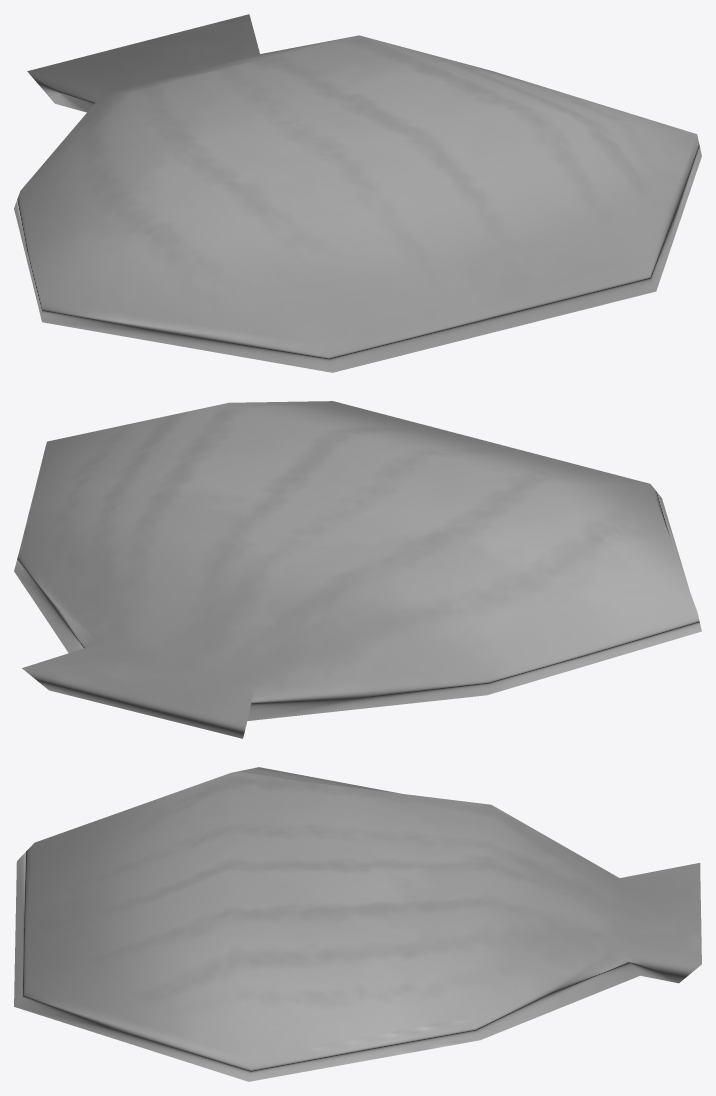
Rendered from Asset_coquillage_01.fbx.
3 renders of one model, top to bottom at view 1: azimuth 30°, elevation 25°; view 2: azimuth 150°, elevation 25°; view 3: azimuth 270°, elevation 25°, orthographic. The views are drawn at different scales.
Visible parts, largest first — view 1: PolySurface_Sea_shell_01; view 2: PolySurface_Sea_shell_01; view 3: PolySurface_Sea_shell_01.
Part boxes in pixels (<box>): PolySurface_Sea_shell_01: <box>14,14,701,372</box>; PolySurface_Sea_shell_01: <box>14,401,701,738</box>; PolySurface_Sea_shell_01: <box>14,767,701,1081</box>.
Size of the model in its own units: 46.75 by 6.9 by 44.68.
